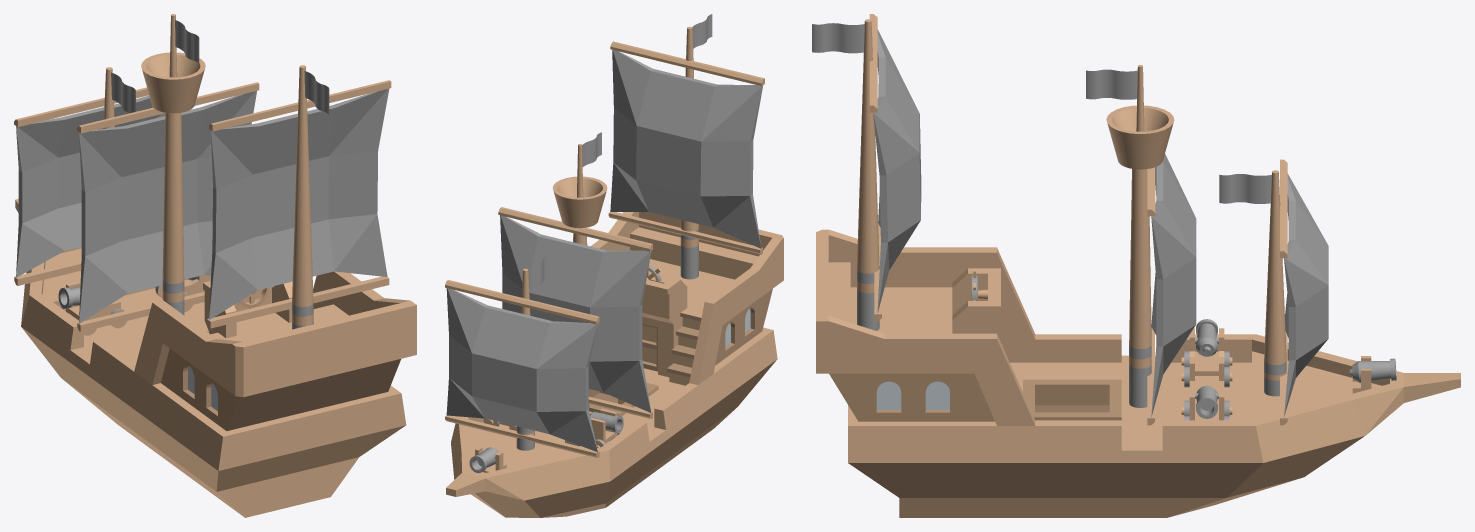
File: ship_dark.glb
3 views of the same model, side by side, from view 1: azimuth 30°, elevation 25°; view 2: azimuth 150°, elevation 25°; view 3: azimuth 270°, elevation 25° (orthographic). The views are drawn at different scales.
Visible parts, largest first — view 1: ship_dark_8angles, sail_back, sail_middle, sail_front, cannon_left; view 2: ship_dark_8angles, sail_back, sail_front, sail_middle, cannon_left (×2), cannon_front; view 3: ship_dark_8angles, sail_back, sail_middle, sail_front, cannon_left (×2), cannon_front.
Part boxes in pixels (bbox=[...]): ship_dark_8angles: bbox=[15, 14, 416, 517]; sail_back: bbox=[207, 80, 391, 328]; sail_middle: bbox=[77, 82, 259, 331]; sail_front: bbox=[14, 87, 165, 285]; cannon_left: bbox=[66, 281, 120, 320]; ship_dark_8angles: bbox=[446, 14, 783, 517]; sail_back: bbox=[608, 41, 764, 254]; sail_front: bbox=[445, 280, 599, 457]; sail_middle: bbox=[498, 207, 652, 418]; cannon_left (×2): bbox=[590, 408, 623, 443]; cannon_front: bbox=[469, 447, 498, 473]; ship_dark_8angles: bbox=[812, 19, 1460, 517]; sail_back: bbox=[869, 14, 921, 321]; sail_middle: bbox=[1147, 154, 1196, 425]; sail_front: bbox=[1280, 159, 1328, 425]; cannon_left (×2): bbox=[1189, 319, 1224, 380]; cannon_front: bbox=[1349, 358, 1396, 382].
Size of the model in its own units: 2.85 by 6.55 by 8.1.
